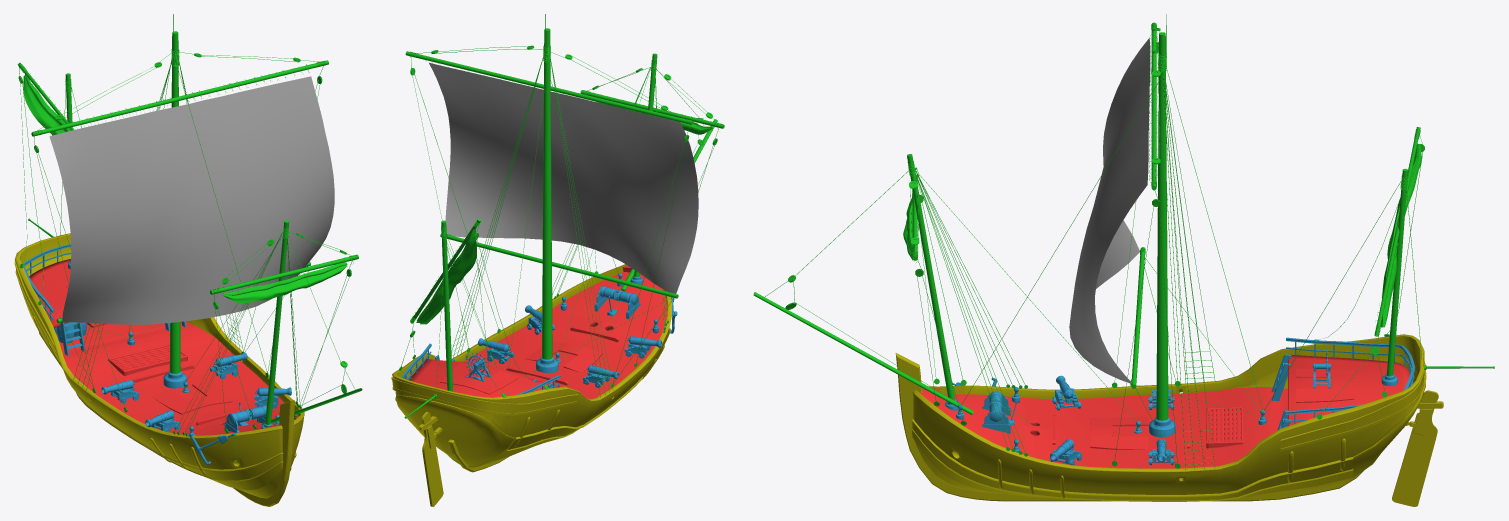
The picture shows the model from 3 angles, left to right: view 1: azimuth 30°, elevation 25°; view 2: azimuth 150°, elevation 25°; view 3: azimuth 270°, elevation 25°; orthographic projection. The views are drawn at different scales.
Parts seen in each view (by area): view 1: SailAnim001, PoopDeck_lo, Hull_lo, Sail002, UpperDeck_lo, MidBoom, Keel, UpperHatch001_lo, Hatch, Foremast, MidMast, Sail001 (+15 smaller); view 2: SailAnim001, Hull_lo, PoopDeck_lo, MidMast, ClimbingRigging, HullBackDetailPlate, UpperDeck_lo, Sail001, MidBoom, Rudder, MidBoom001, UpperHatch_lo (+13 smaller); view 3: Hull_lo, PoopDeck_lo, SailAnim001, UpperDeck_lo, MidMast, Keel, Rudder, ClimbingRigging, ForeMastSideRigging, HullBackDetailPlate, Foremast, UpperHatch001_lo (+8 smaller).
Boxes of the visible parts, x1=… form: SailAnim001: x1=49, y1=76, x2=334, y2=324; PoopDeck_lo: x1=56, y1=321, x2=298, y2=435; Hull_lo: x1=14, y1=233, x2=304, y2=498; Sail002: x1=222, y1=262, x2=347, y2=303; UpperDeck_lo: x1=29, y1=259, x2=70, y2=327; MidBoom: x1=31, y1=60, x2=328, y2=136; Keel: x1=233, y1=400, x2=294, y2=506; UpperHatch001_lo: x1=151, y1=382, x2=232, y2=414; Hatch: x1=108, y1=344, x2=187, y2=375; Foremast: x1=265, y1=220, x2=289, y2=424; MidMast: x1=169, y1=31, x2=180, y2=373; Sail001: x1=23, y1=74, x2=71, y2=135; SailAnim001: x1=429, y1=62, x2=698, y2=293; Hull_lo: x1=392, y1=264, x2=671, y2=467; PoopDeck_lo: x1=464, y1=265, x2=667, y2=399; MidMast: x1=542, y1=28, x2=552, y2=359; ClimbingRigging: x1=451, y1=56, x2=613, y2=397; HullBackDetailPlate: x1=391, y1=377, x2=578, y2=415; UpperDeck_lo: x1=409, y1=359, x2=544, y2=397; Sail001: x1=416, y1=229, x2=476, y2=324; MidBoom: x1=405, y1=51, x2=693, y2=124; Rudder: x1=419, y1=411, x2=443, y2=506; MidBoom001: x1=440, y1=234, x2=678, y2=298; UpperHatch_lo: x1=440, y1=363, x2=518, y2=394; Hull_lo: x1=912, y1=334, x2=1423, y2=501; PoopDeck_lo: x1=919, y1=387, x2=1287, y2=468; SailAnim001: x1=1069, y1=38, x2=1150, y2=383; UpperDeck_lo: x1=1288, y1=354, x2=1409, y2=425; MidMast: x1=1156, y1=32, x2=1168, y2=420; Keel: x1=895, y1=353, x2=1363, y2=501; Rudder: x1=1392, y1=390, x2=1443, y2=506; ClimbingRigging: x1=1162, y1=65, x2=1215, y2=470; ForeMastSideRigging: x1=914, y1=169, x2=1026, y2=452; HullBackDetailPlate: x1=1280, y1=349, x2=1424, y2=450; Foremast: x1=907, y1=154, x2=954, y2=400; UpperHatch001_lo: x1=1090, y1=416, x2=1148, y2=449.
Bounding box in the file's own units: 138 × 193 × 265.
